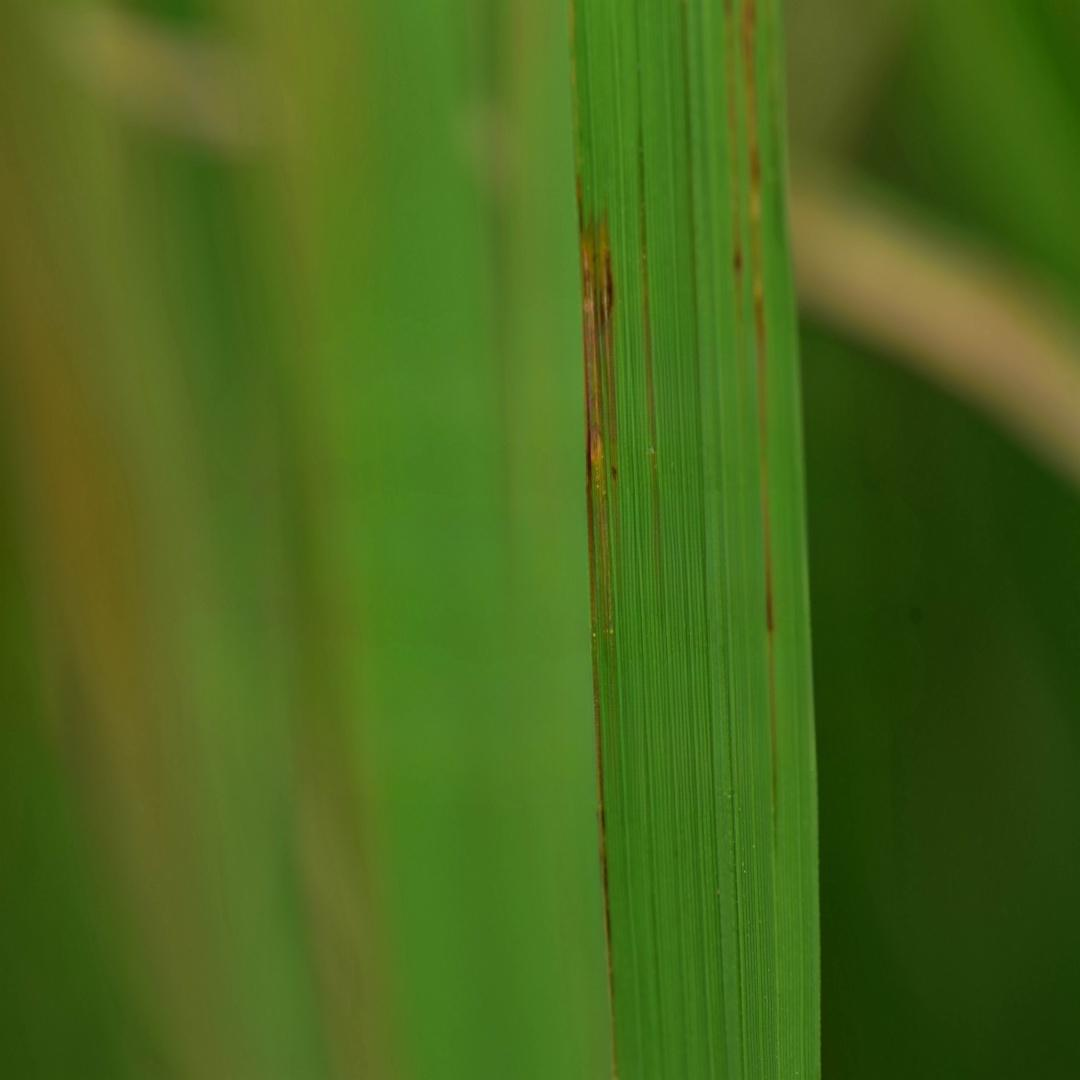BLS: (577, 175, 617, 1079), (741, 0, 776, 677), (724, 0, 748, 422), (639, 128, 659, 551), (595, 200, 619, 494)
